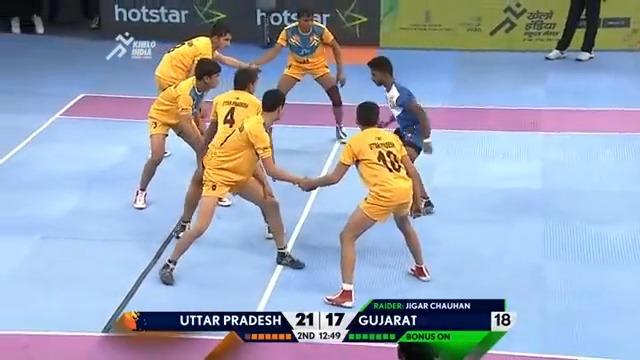Player: (158, 72, 310, 285), (295, 100, 432, 308), (132, 22, 260, 211), (249, 8, 348, 144)
Raider: (365, 55, 433, 216)
referee: (544, 0, 602, 61)
